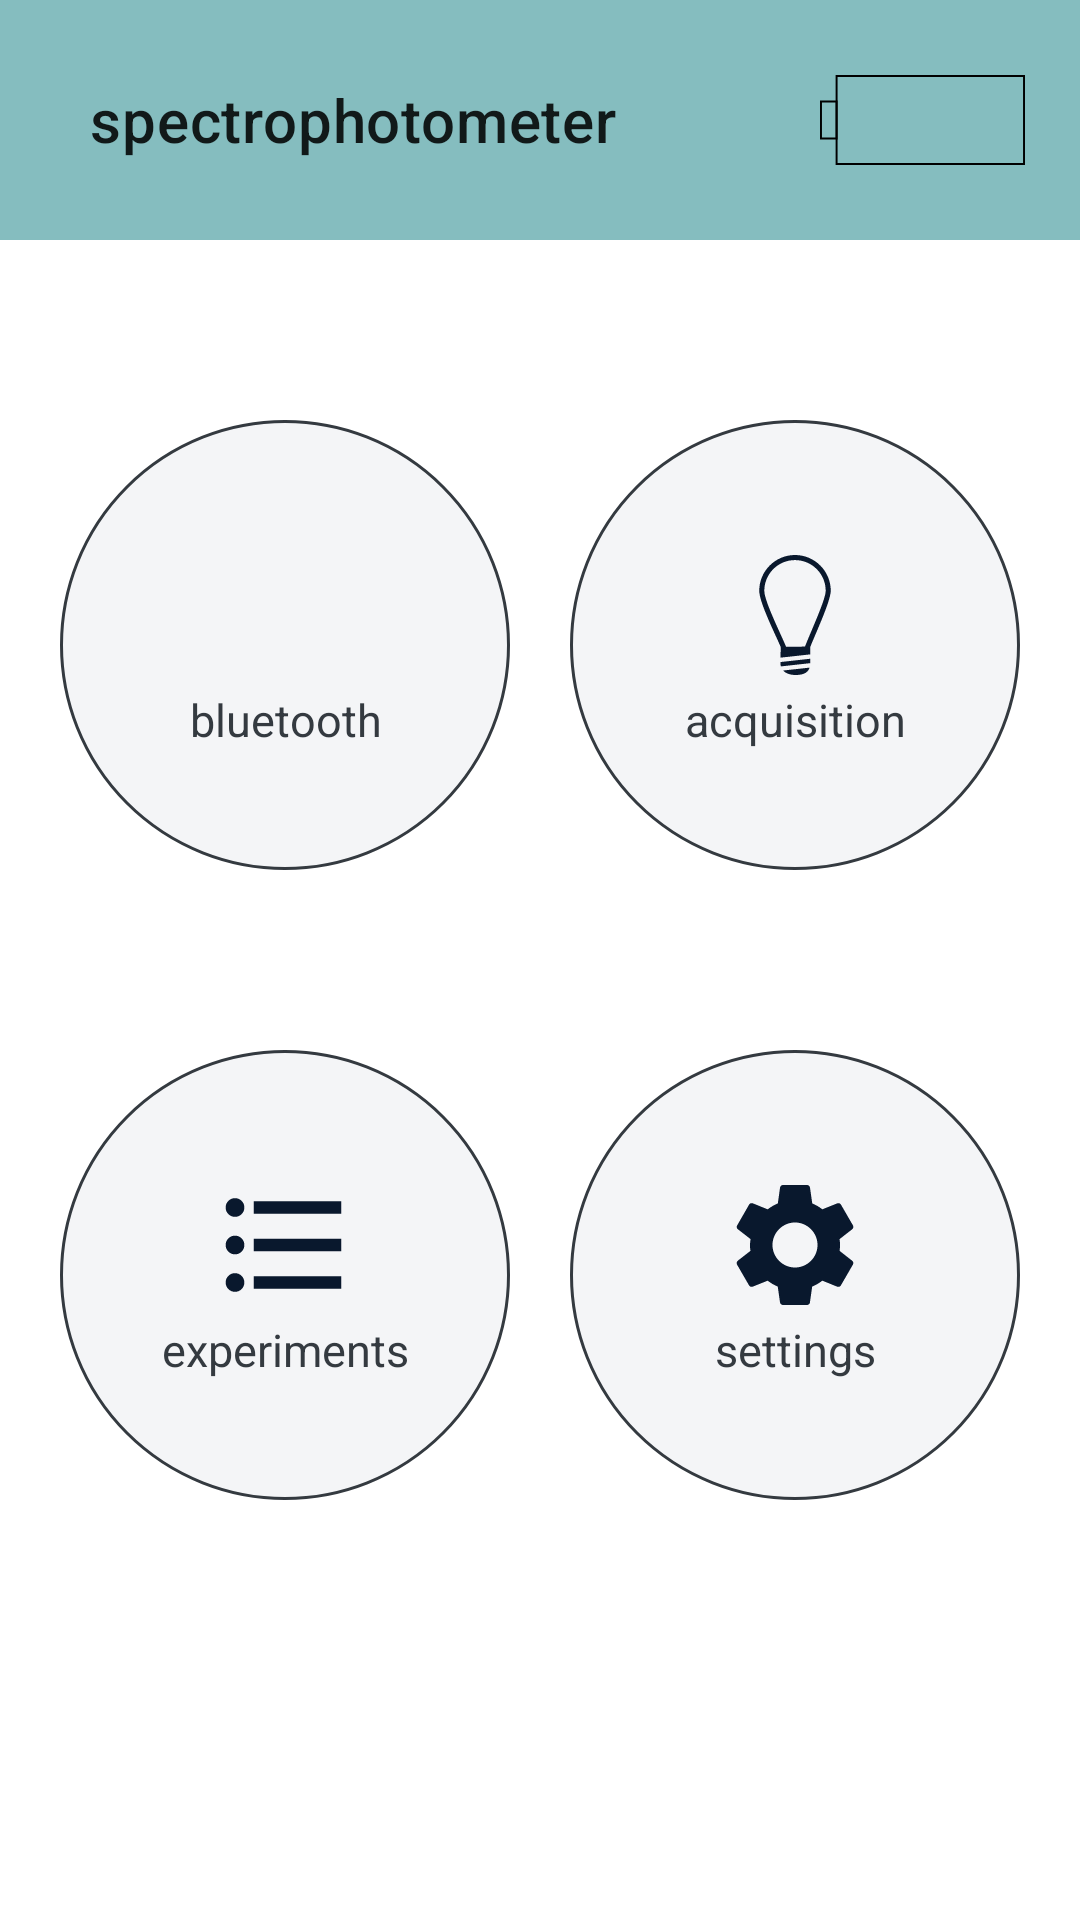

Point at icon controls on the screen. Image size 1080x1920, points as point (x, y).
battery level: point (922, 120)
